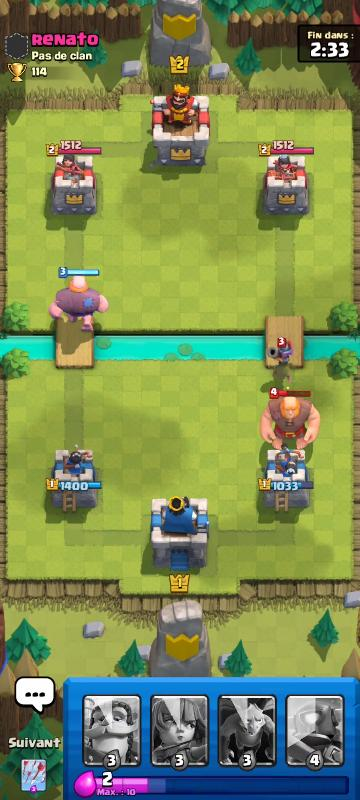geant: (261, 397, 323, 456), (49, 272, 109, 328)
mini_PEKKA: (268, 336, 295, 367)
